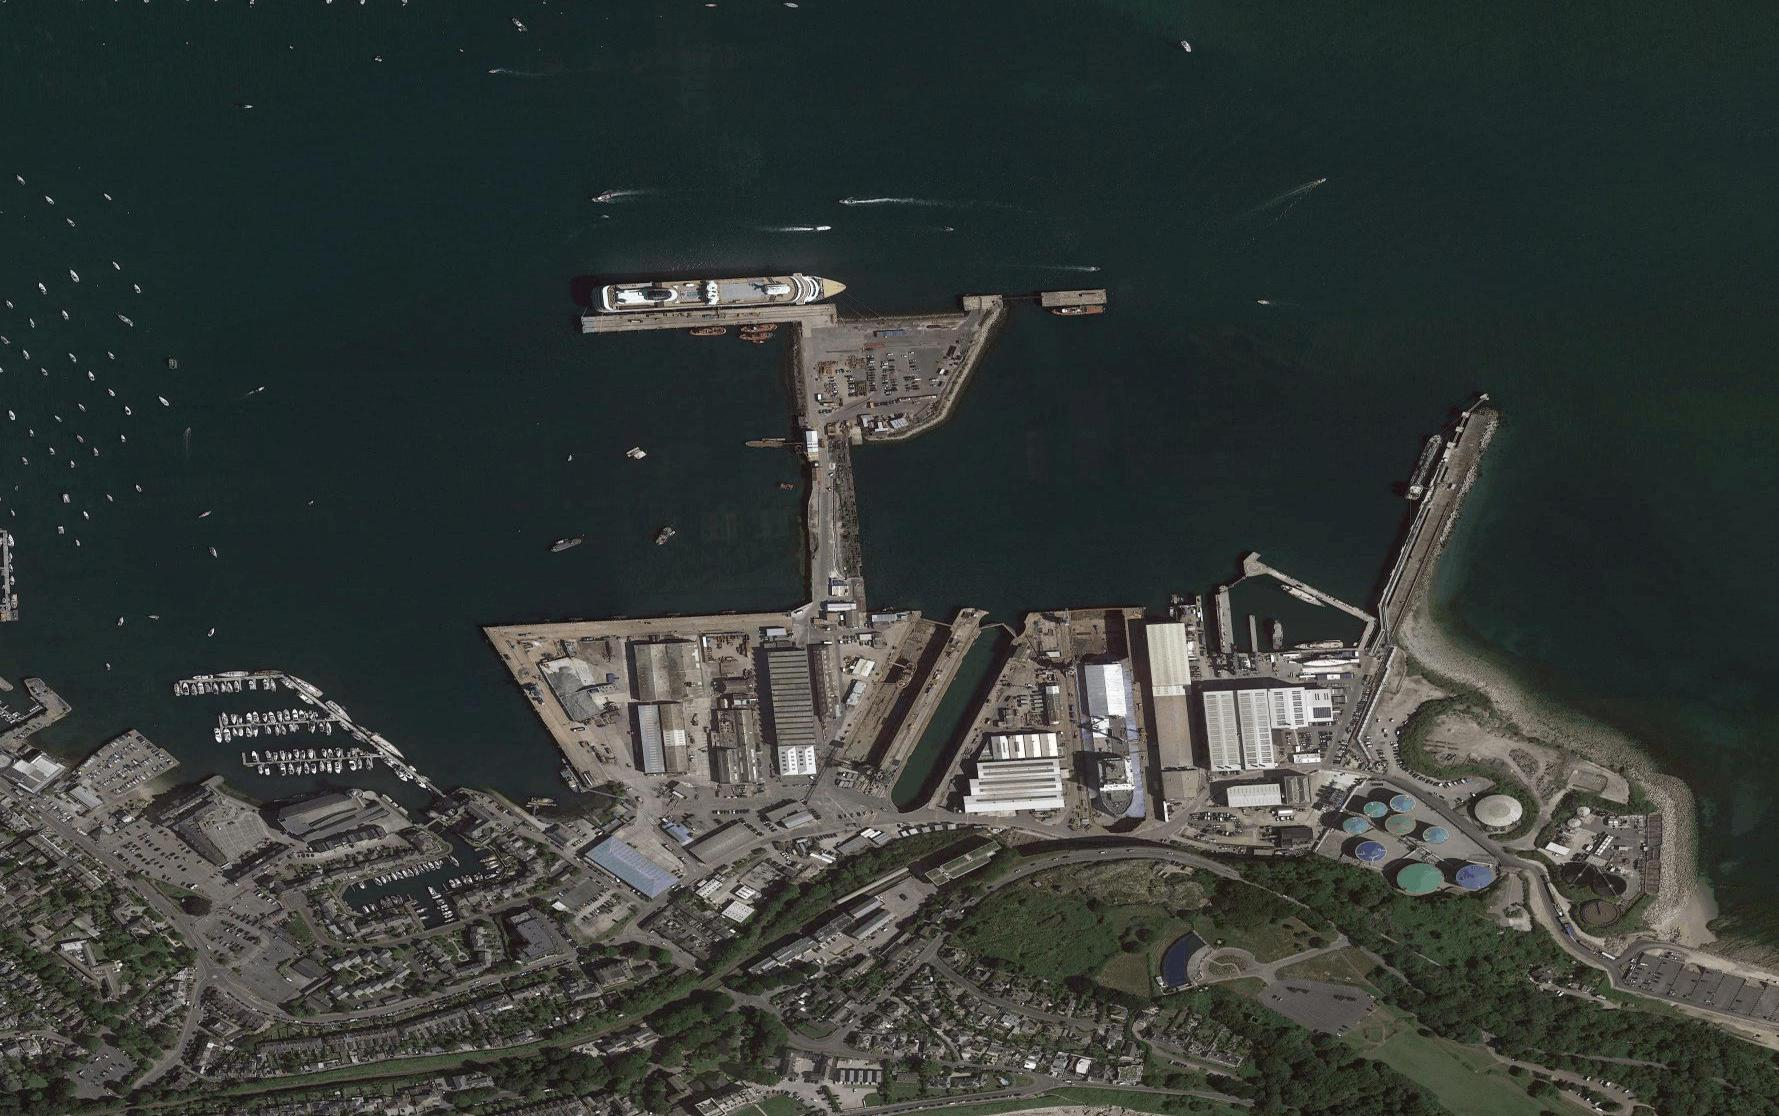harbor: (50, 222, 1595, 883)
